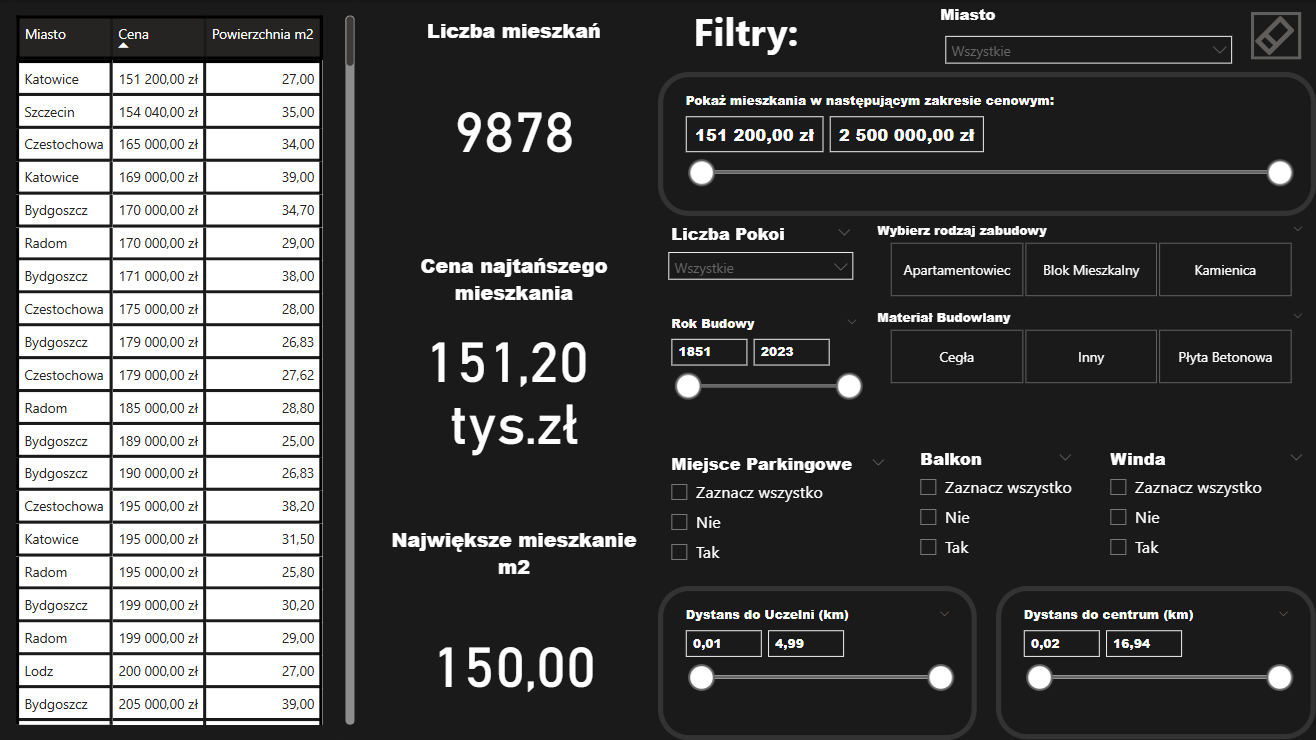

The page's visual inventory and layout, read from the dashboard file:
{"tool":"powerbi","page":{"name":"Wyszukiwarka nieruchomości","canvas":[1280,720],"ordinal":2},"visuals":[{"type":"tableEx","fields":{"Values":["Dane Nieruchomości 15 Miast.Miasto","Dane Nieruchomości 15 Miast.Cena","Sum(Dane Nieruchomości 15 Miast.Powierzchnia (m^2))"]},"box":[0,0,359.9,719.8],"z":0},{"type":"card","title":"Liczba mieszkań","fields":{"Values":["CountNonNull(Dane Nieruchomości 15 Miast.Cena)"]},"box":[359.8,15.4,280.2,186.3],"z":1000},{"type":"card","title":"Największe mieszkanie m2","fields":{"Values":["Max(Dane Nieruchomości 15 Miast.Powierzchnia (m^2))"]},"box":[359.8,510.2,280.2,208.2],"z":2000},{"type":"card","title":"Cena najtańszego mieszkania","fields":{"Values":["Min(Dane Nieruchomości 15 Miast.Cena)"]},"box":[359.8,244.2,280.2,208.2],"z":3000},{"type":"slicer","fields":{"Values":["Dane Nieruchomości 15 Miast.Cena"]},"box":[640,70,640,140.1],"z":4000},{"type":"slicer","fields":{"Values":["Dane Nieruchomości 15 Miast.Liczba Pokoi"]},"box":[640,210.1,200.4,84.6],"z":5000},{"type":"slicer","fields":{"Values":["Dane Nieruchomości 15 Miast.Balkon"]},"box":[882.2,428.9,173.1,125.5],"z":6000},{"type":"slicer","fields":{"Values":["Dane Nieruchomości 15 Miast.Miejsce Parkingowe"]},"box":[640,433.8,233.4,125.5],"z":7000},{"type":"slicer","fields":{"Values":["Dane Nieruchomości 15 Miast.Winda"]},"box":[1067,428.9,213,125.5],"z":8000},{"type":"slicer","fields":{"Values":["Dane Nieruchomości 15 Miast.Dystans do centrum"]},"box":[968.8,570,311.2,148.8],"z":9000},{"type":"slicer","fields":{"Values":["Dane Nieruchomości 15 Miast.Dystans do Uczelni"]},"box":[640,570,310.3,149.8],"z":10000},{"type":"slicer","fields":{"Values":["Dane Nieruchomości 15 Miast.Materiał Budowlany"]},"box":[840.4,294.7,439.6,84.6],"z":11000},{"type":"slicer","fields":{"Values":["Dane Nieruchomości 15 Miast.Rok Budowy"]},"box":[640,300.5,206.2,95.3],"z":12000},{"type":"slicer","fields":{"Values":["Dane Nieruchomości 15 Miast.Rodzaj Zabudowy"]},"box":[840.4,210.1,439.6,84.6],"z":13000},{"type":"textbox","box":[640,0,170.9,69.4],"z":14000},{"type":"slicer","title":"Miasto","fields":{"Values":["Dane Nieruchomości 15 Miast.Miasto"]},"box":[909.9,3.9,299.4,61.7],"z":14001},{"type":"actionButton","box":[1217,11.6,48.8,46.3],"z":14003}]}

Visuals, with their boxes in screenshot pixels (x1, y1, x2, y2), scaled from the page's 1280x720 canvas onto the 1316x740 screenshot:
tableEx - Dane Nieruchomości 15 Miast.Miasto x Dane Nieruchomości 15 Miast.Cena: [0, 0, 370, 739]
"Liczba mieszkań" card: [370, 16, 658, 207]
"Największe mieszkanie m2" card: [370, 524, 658, 738]
"Cena najtańszego mieszkania" card: [370, 251, 658, 465]
slicer - Dane Nieruchomości 15 Miast.Cena: [658, 72, 1315, 216]
slicer - Dane Nieruchomości 15 Miast.Liczba Pokoi: [658, 216, 864, 303]
slicer - Dane Nieruchomości 15 Miast.Balkon: [907, 441, 1085, 570]
slicer - Dane Nieruchomości 15 Miast.Miejsce Parkingowe: [658, 446, 898, 575]
slicer - Dane Nieruchomości 15 Miast.Winda: [1097, 441, 1315, 570]
slicer - Dane Nieruchomości 15 Miast.Dystans do centrum: [996, 586, 1315, 739]
slicer - Dane Nieruchomości 15 Miast.Dystans do Uczelni: [658, 586, 977, 739]
slicer - Dane Nieruchomości 15 Miast.Materiał Budowlany: [864, 303, 1315, 390]
slicer - Dane Nieruchomości 15 Miast.Rok Budowy: [658, 309, 870, 407]
slicer - Dane Nieruchomości 15 Miast.Rodzaj Zabudowy: [864, 216, 1315, 303]
textbox: [658, 0, 834, 71]
"Miasto" slicer: [935, 4, 1243, 67]
actionButton: [1251, 12, 1301, 60]
